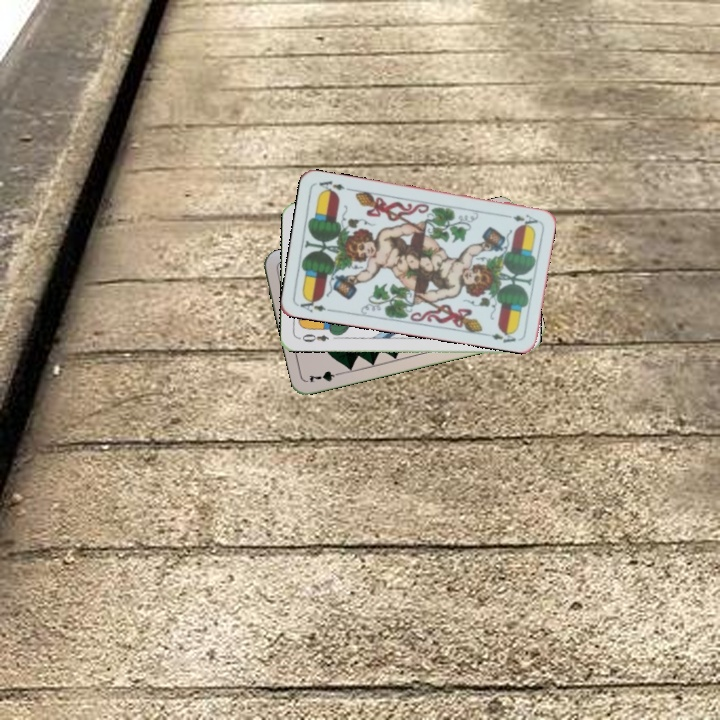EA: (296, 294, 335, 315), (500, 210, 540, 227)
EO: (295, 330, 331, 345)
G7: (305, 367, 346, 385)
